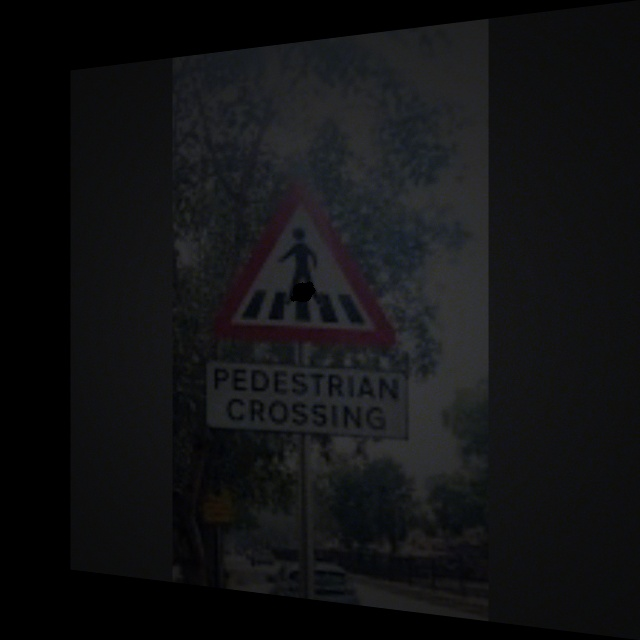Pedestrian_Crossing: (217, 168, 405, 342)
